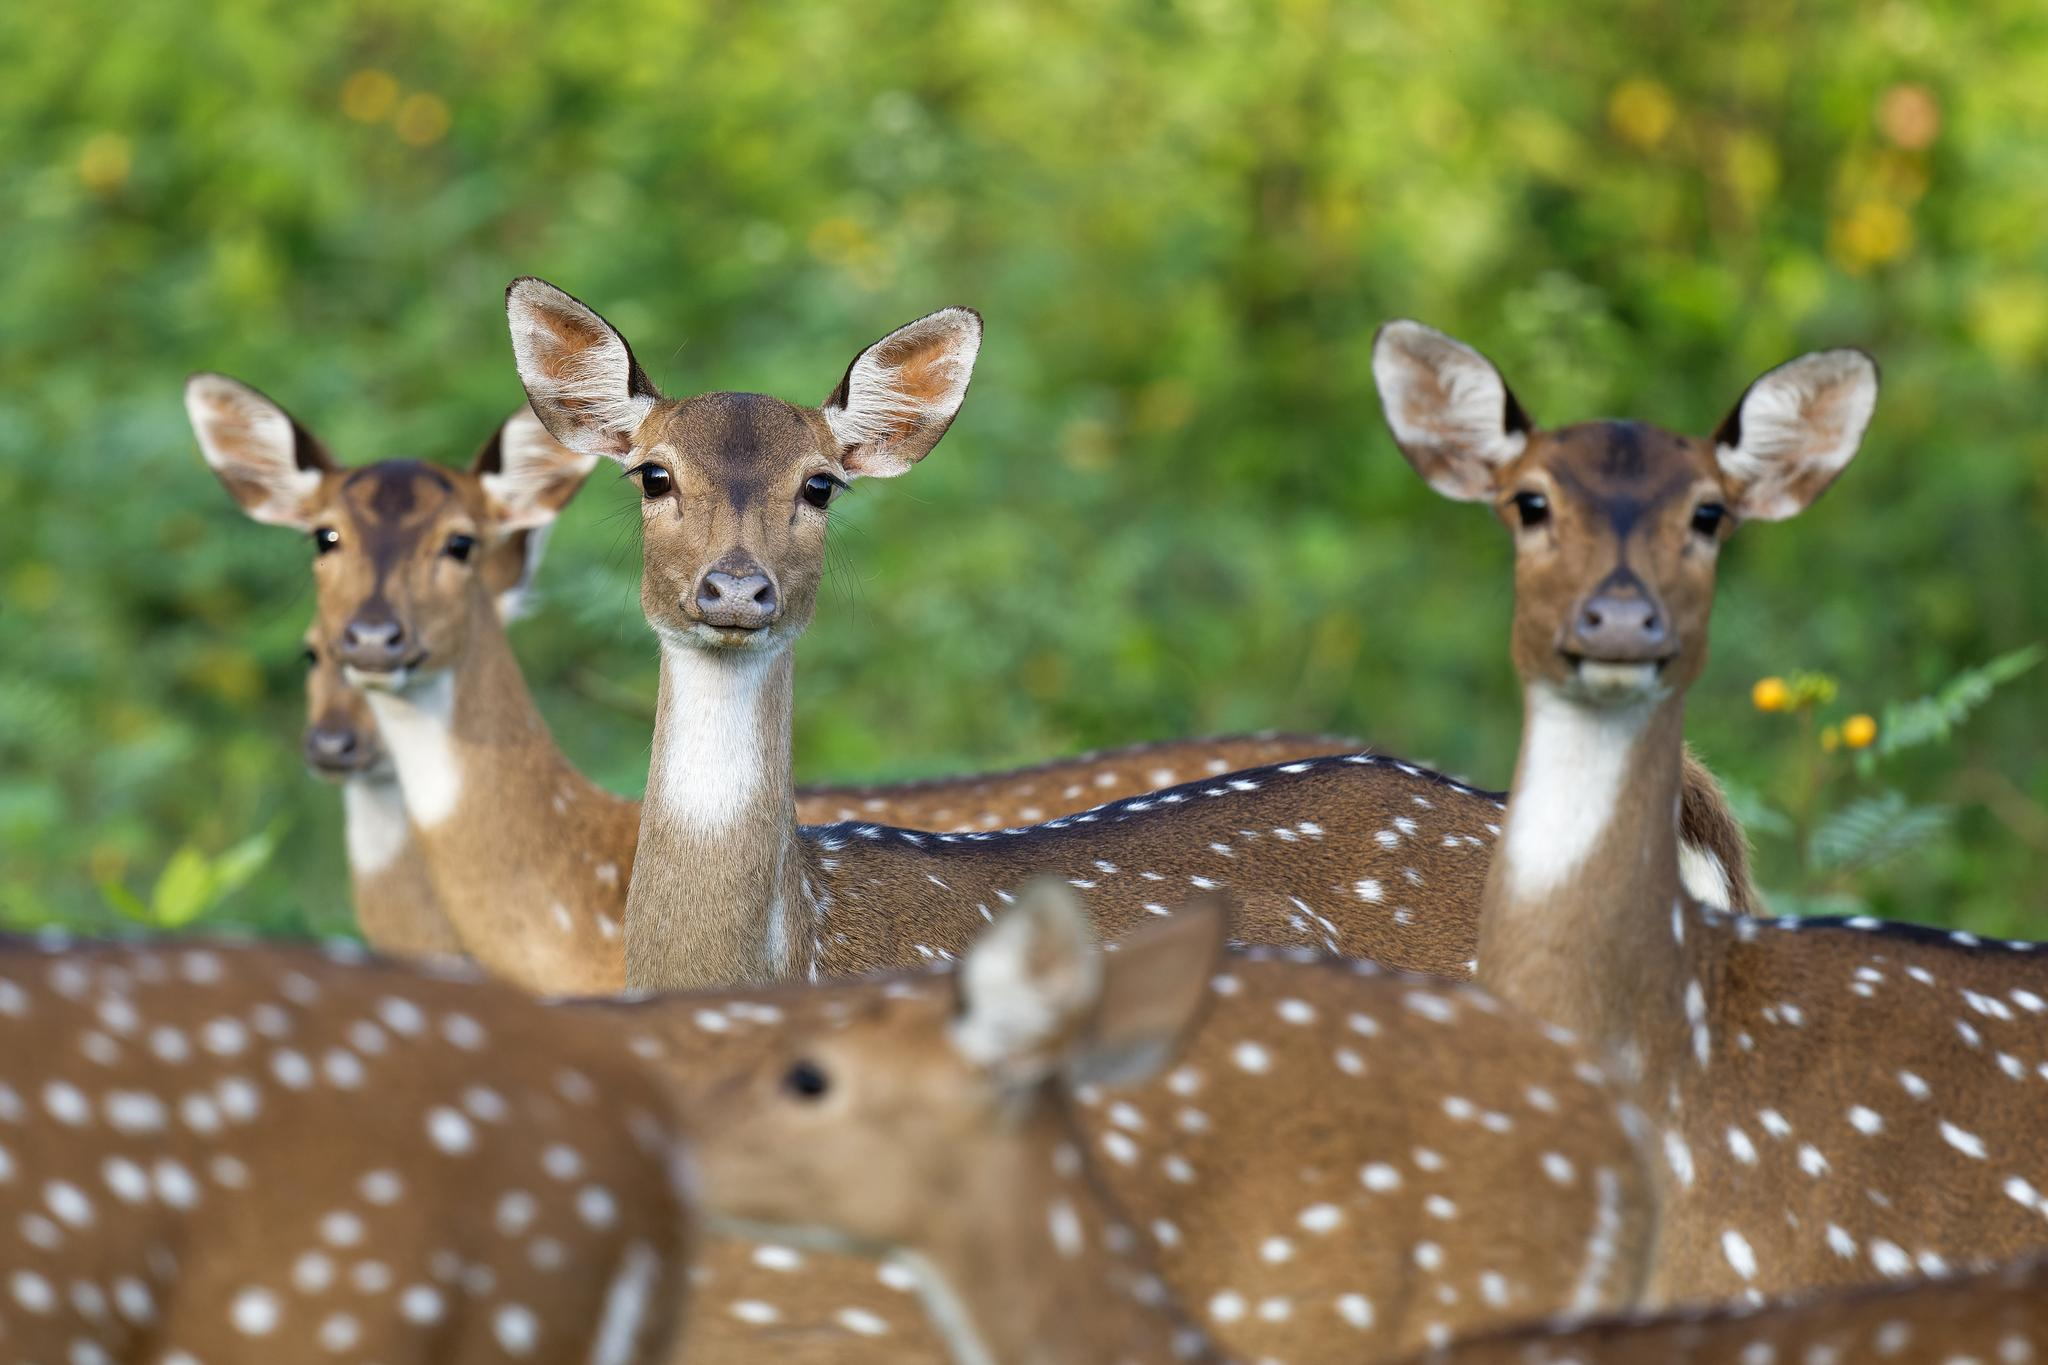Deer: (507, 277, 1500, 989), (696, 867, 2046, 1363), (1372, 320, 2046, 1303), (186, 373, 640, 993)
